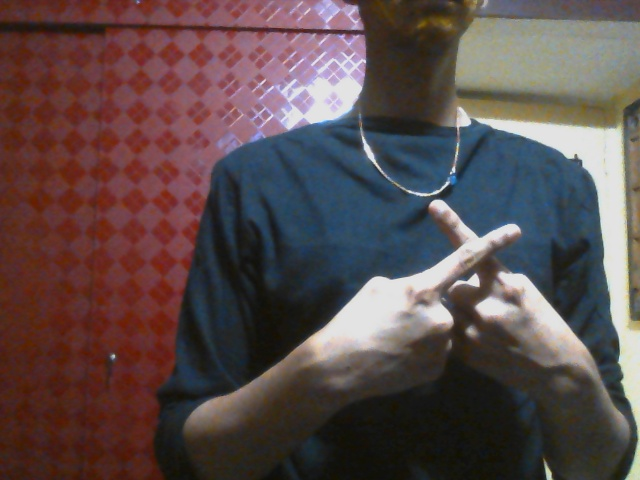X: (319, 200, 587, 404)
